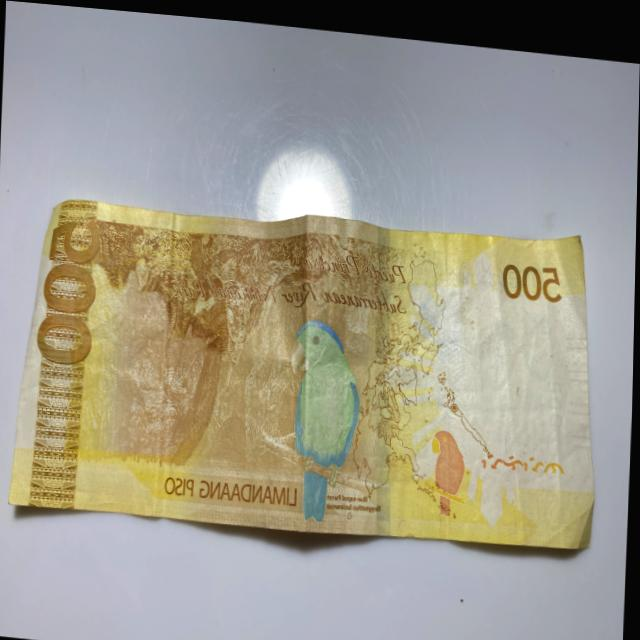500_big_parrot: (282, 313, 366, 516)
500_parrot_watermark: (424, 419, 470, 515)
value_watermark: (545, 364, 567, 417)
